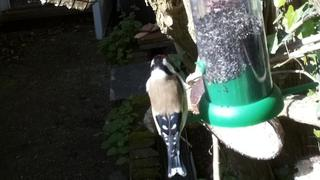goldfinch: (145, 54, 188, 178)
